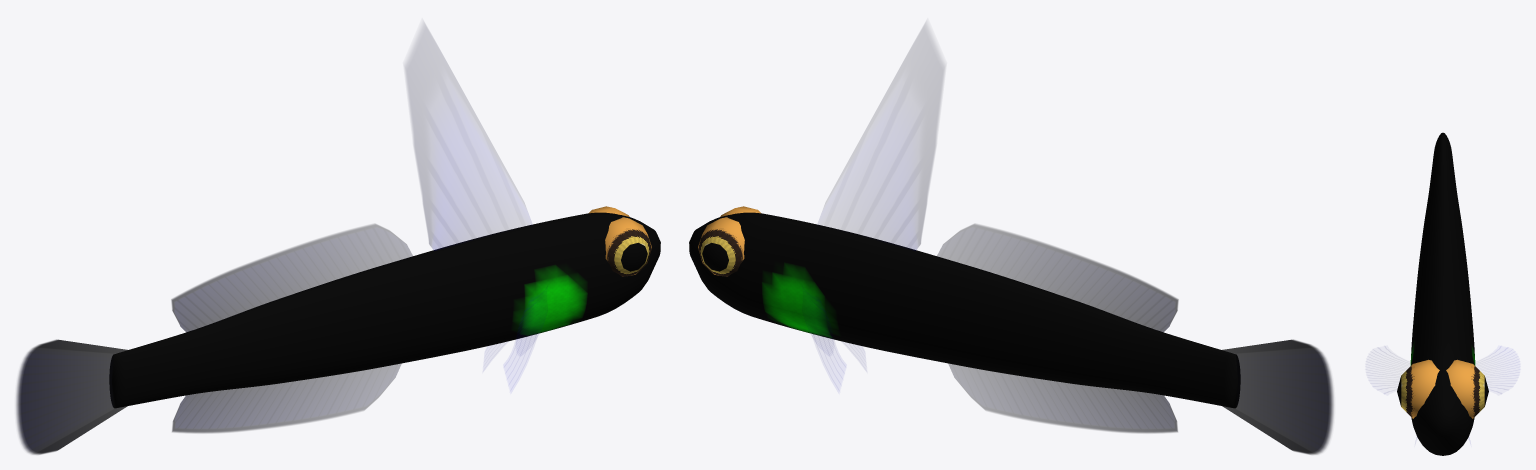
Rendered from firefish.glb.
3 views of the same model, side by side, from view 1: azimuth 30°, elevation 25°; view 2: azimuth 150°, elevation 25°; view 3: azimuth 270°, elevation 25° (orthographic). The views are drawn at different scales.
Visible parts, largest first — view 1: Body, FinDorsal, FinDorsal2, FinCaudal, FinAnal, EyeR; view 2: Body, FinDorsal, FinDorsal2, FinCaudal, FinAnal, EyeL; view 3: Body, EyeL, EyeR.
Part boxes in pixels (x1,y1,x2,y2): Body: (109,212,660,408); FinDorsal: (405,24,526,250); FinDorsal2: (171,224,412,332); FinCaudal: (16,339,128,454); FinAnal: (172,364,400,433); EyeR: (605,217,651,276); Body: (689,212,1240,408); FinDorsal: (823,24,944,250); FinDorsal2: (937,224,1178,332); FinCaudal: (1221,339,1333,454); FinAnal: (949,364,1177,433); EyeL: (698,217,744,276); Body: (1410,132,1475,455); EyeL: (1446,359,1488,418); EyeR: (1397,359,1439,418).
Bounding box in the file's own units: 1 × 0.5768 × 0.2066.
4 materials, 3 textured.
